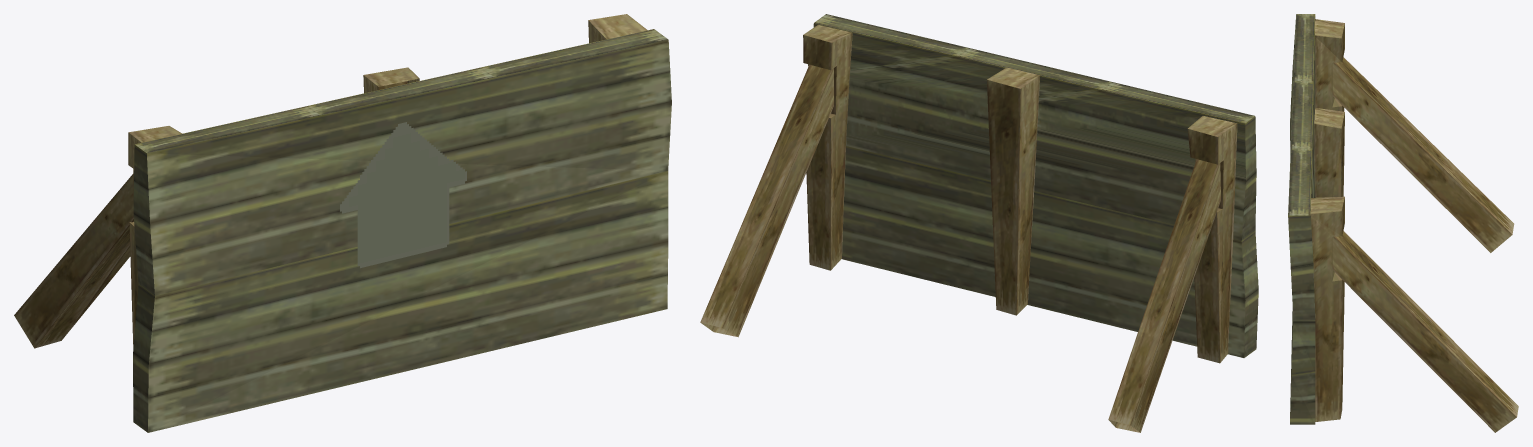
Rendered from C1SMTRAINHURDLE.obj.
3 renders of one model, left to right at view 1: azimuth 30°, elevation 25°; view 2: azimuth 150°, elevation 25°; view 3: azimuth 270°, elevation 25°, orthographic. The views are drawn at different scales.
Visible parts, largest first — view 1: Node 0; view 2: Node 0; view 3: Node 0.
Part boxes in pixels (x1,y1,x2,y2): Node 0: (14, 14, 671, 432); Node 0: (700, 14, 1258, 432); Node 0: (1288, 14, 1518, 432).
Size of the model in its own units: 5.16 by 2.73 by 2.56.
Materials: 3 (3 with a texture image).
